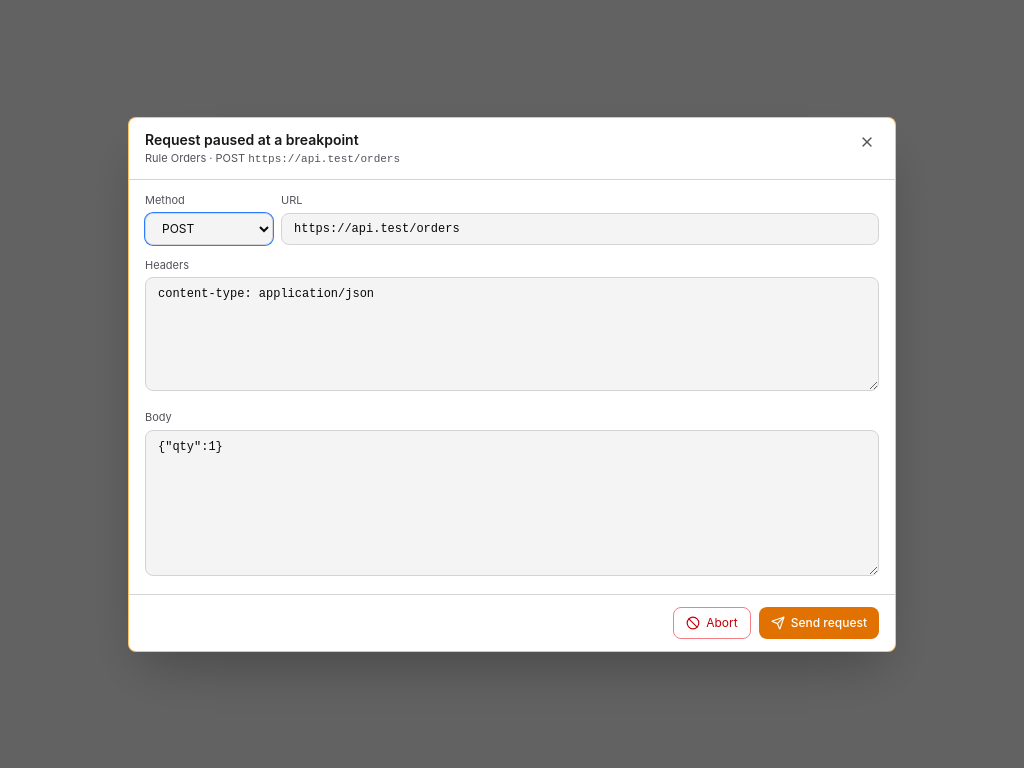
it: BreakpointDialog › explains a flow that is no longer paused and keeps the editor open
This screenshot has width=1024, height=768.
Click the button "Send request": (819, 622) [759,606,879,638]
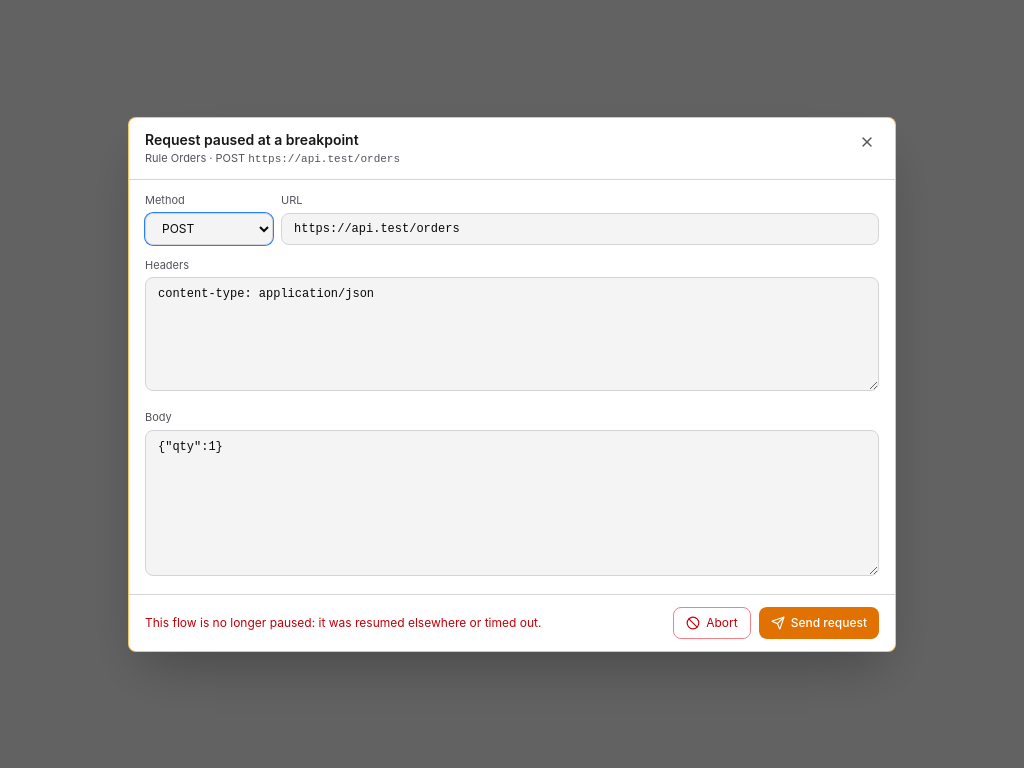
Now the text "This flow is no longer paused: it was resumed elsewhere or timed out." is shown, box [145,614,541,630]
